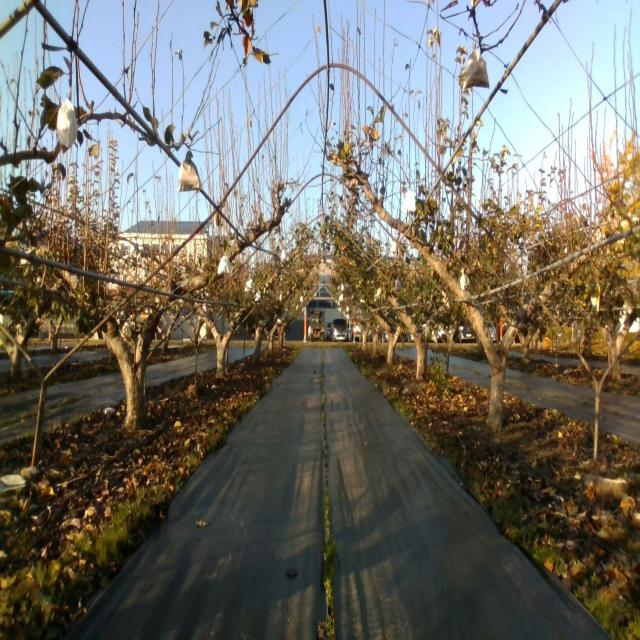pearbags: (462, 46, 490, 91), (56, 96, 78, 148), (176, 151, 202, 192), (218, 251, 232, 278), (403, 187, 416, 211)
